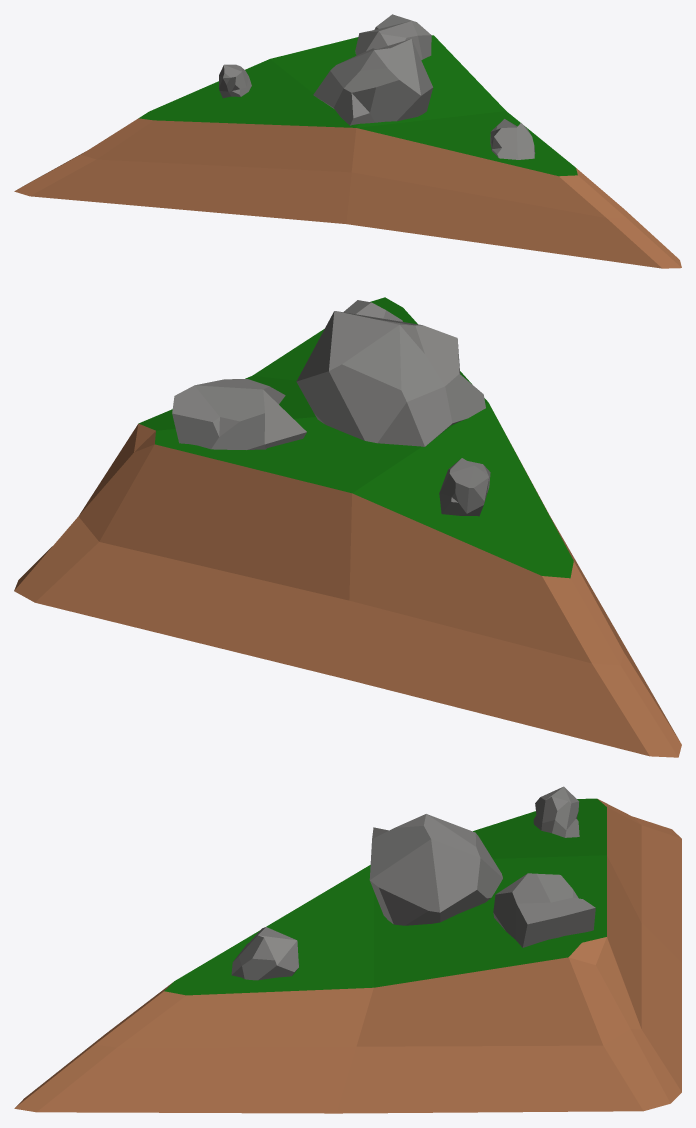
File: Obstacle_Earth_Triangle.fbx
3 renders of one model, top to bottom at view 1: azimuth 30°, elevation 25°; view 2: azimuth 150°, elevation 25°; view 3: azimuth 270°, elevation 25°, orthographic. The views are drawn at different scales.
Visible parts, largest first — view 1: EarthTriangle.001; view 2: EarthTriangle.001; view 3: EarthTriangle.001.
Part boxes in pixels (bbox=[...]): EarthTriangle.001: bbox=[14, 14, 681, 268]; EarthTriangle.001: bbox=[14, 297, 681, 757]; EarthTriangle.001: bbox=[14, 786, 681, 1113].
Size of the model in its own units: 2429 by 781 by 2429.
